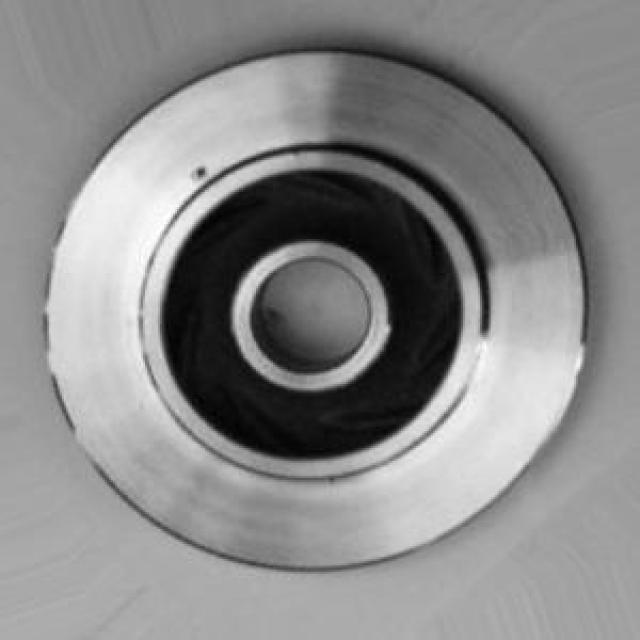Defect: (179, 155, 226, 180)
